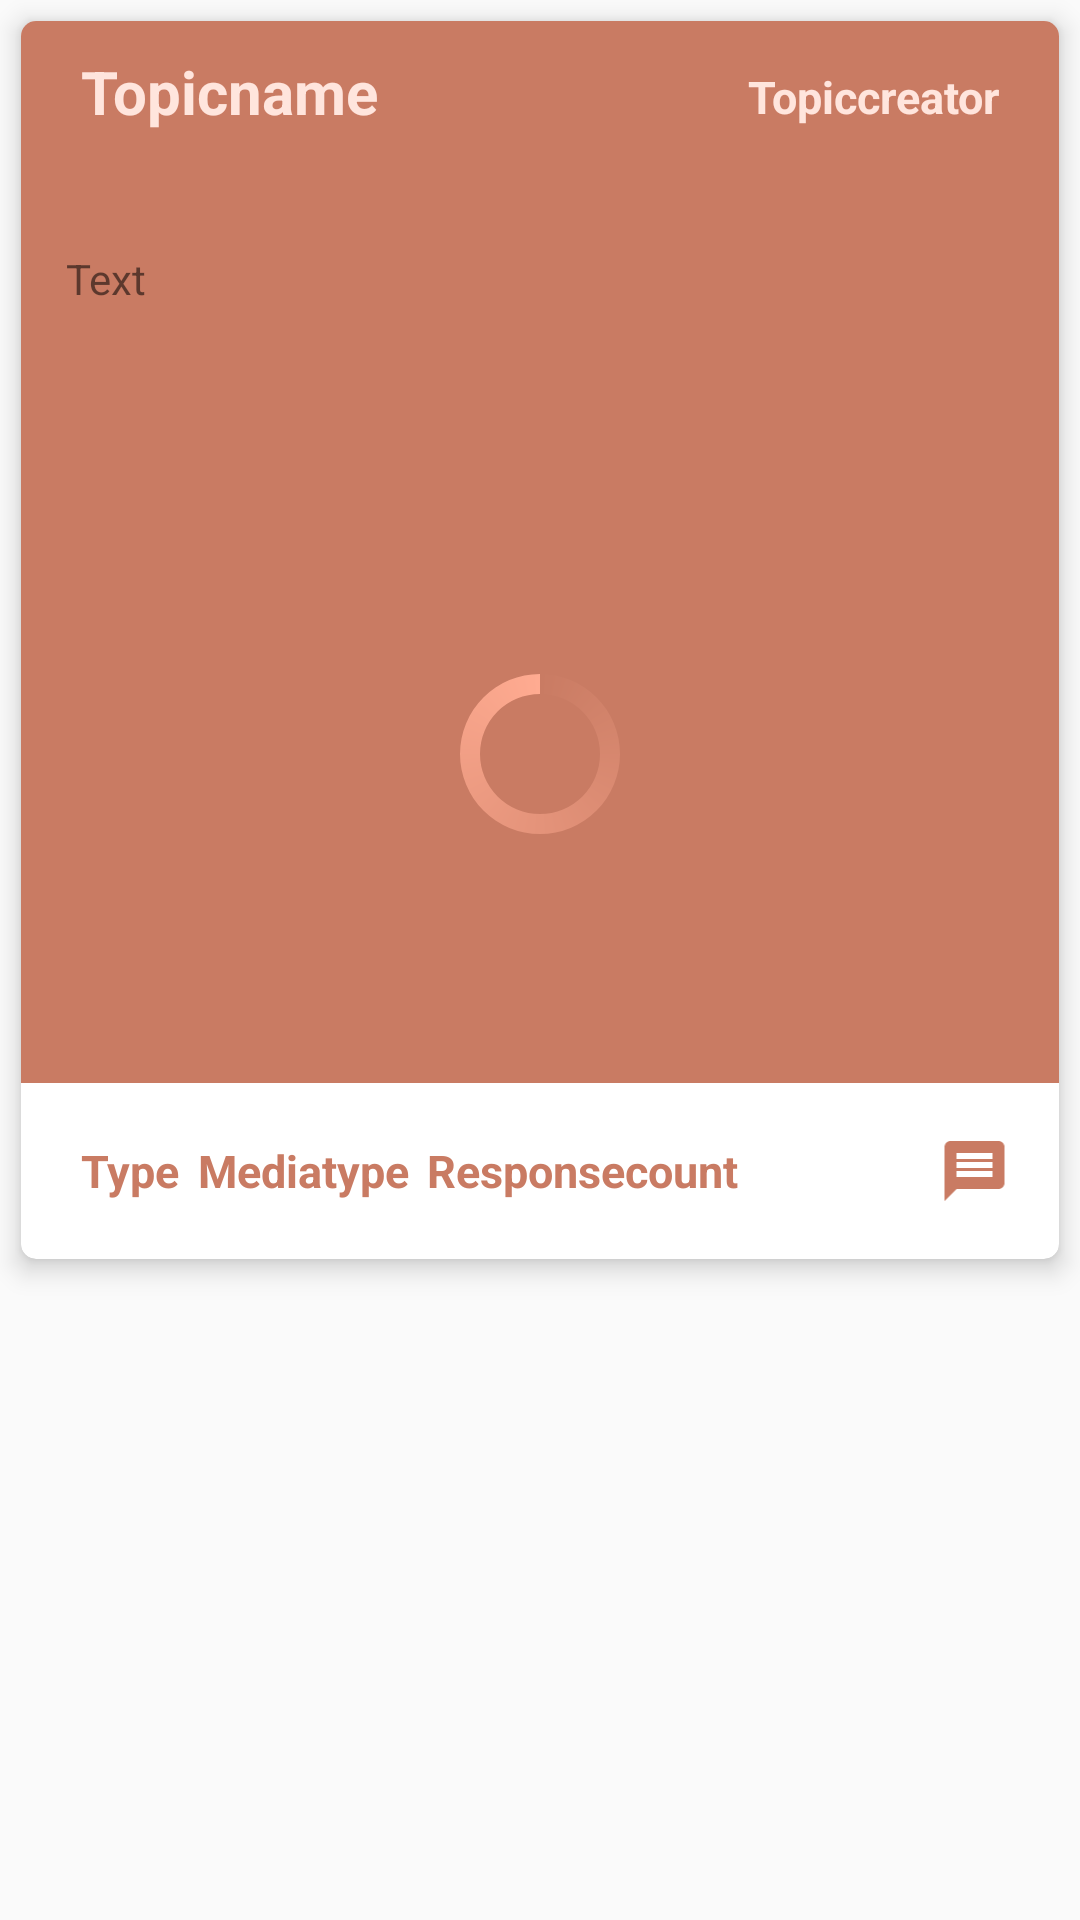

Icons on this 1080x1920 Android screen, each with the point to tap as (x=x, y=y):
add response: (x=974, y=1171)
